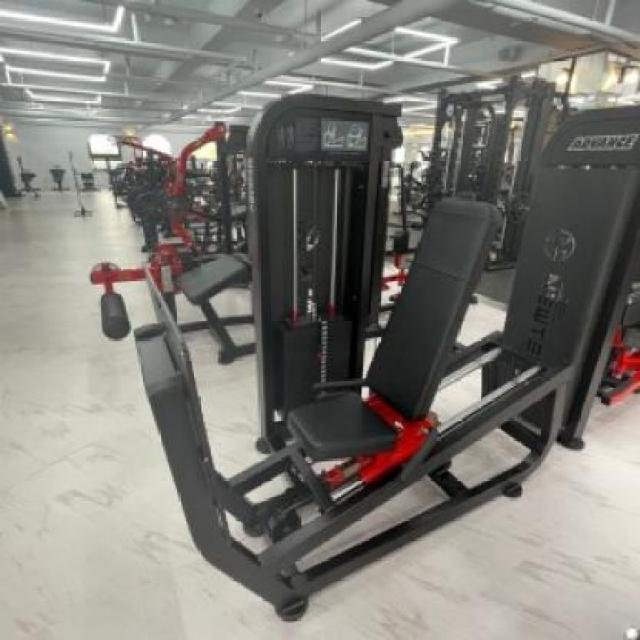leg press: (72, 71, 640, 640)
